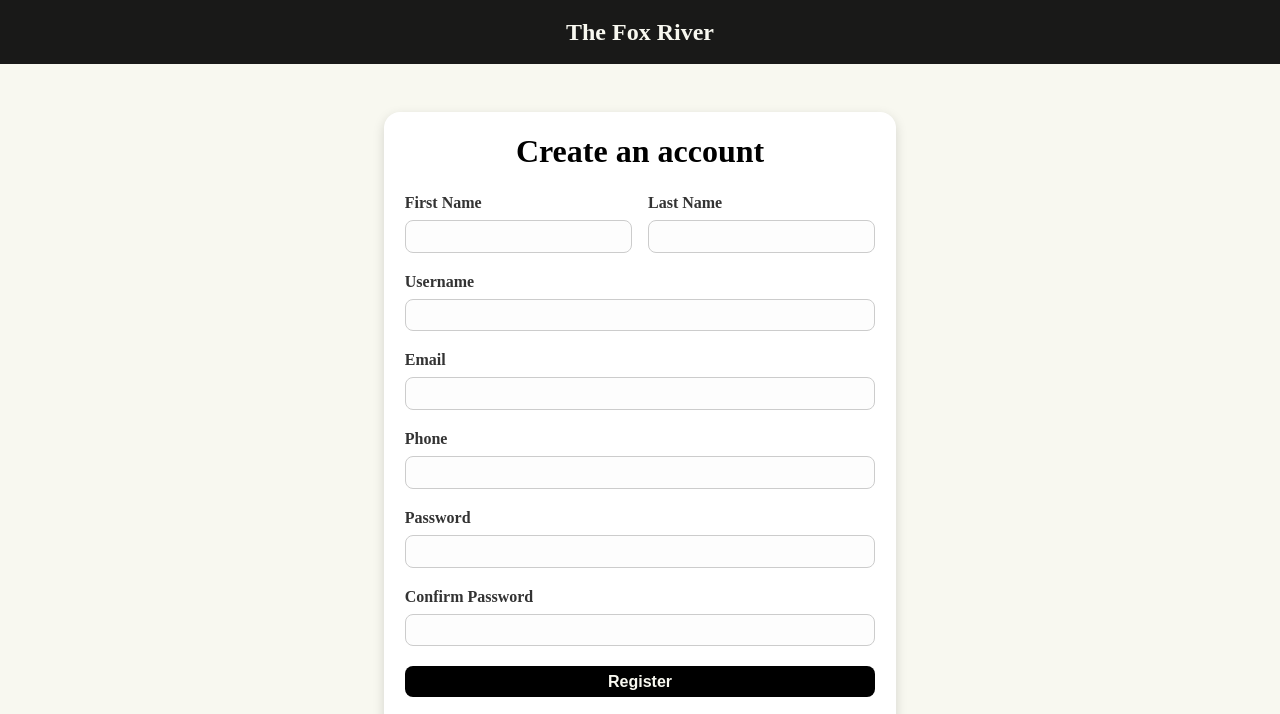
Register.vue › shows error if passwords do not match
In the password field labelled "Password": (640, 551) [405,535,875,568], type "pass123"
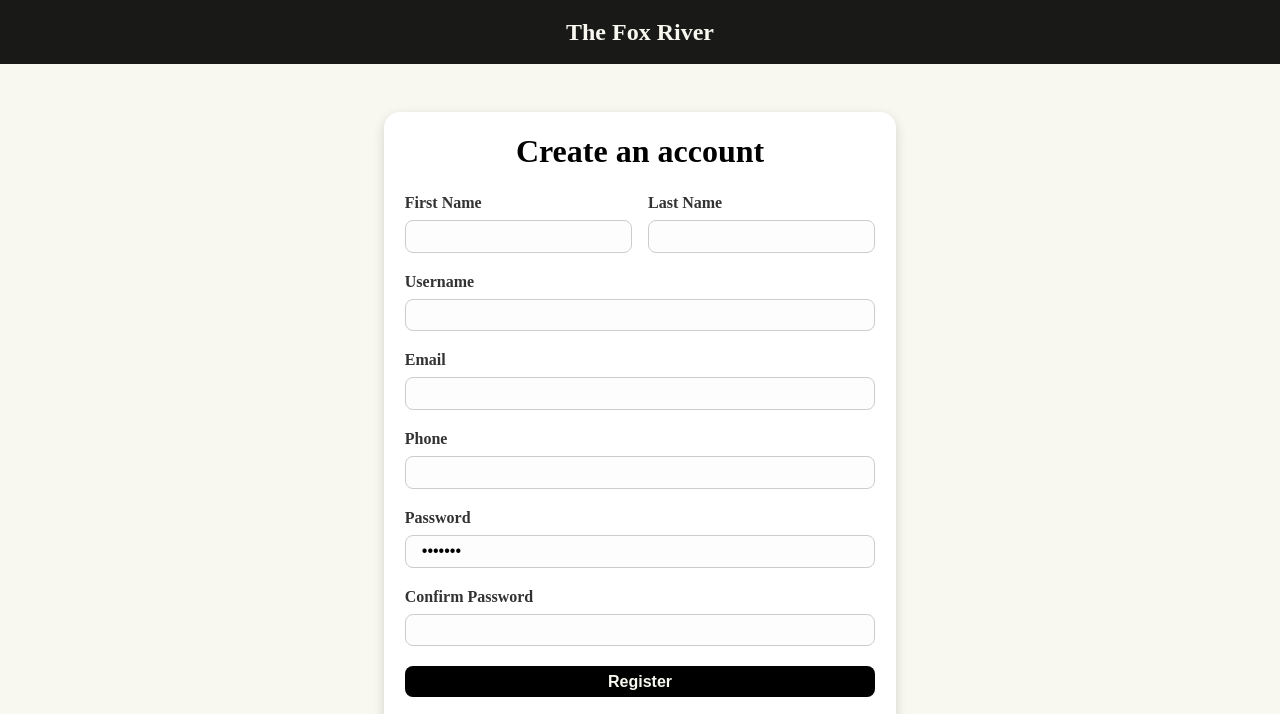
In the password field with id "confirmPassword": (640, 630) [405,614,875,646], type "different"
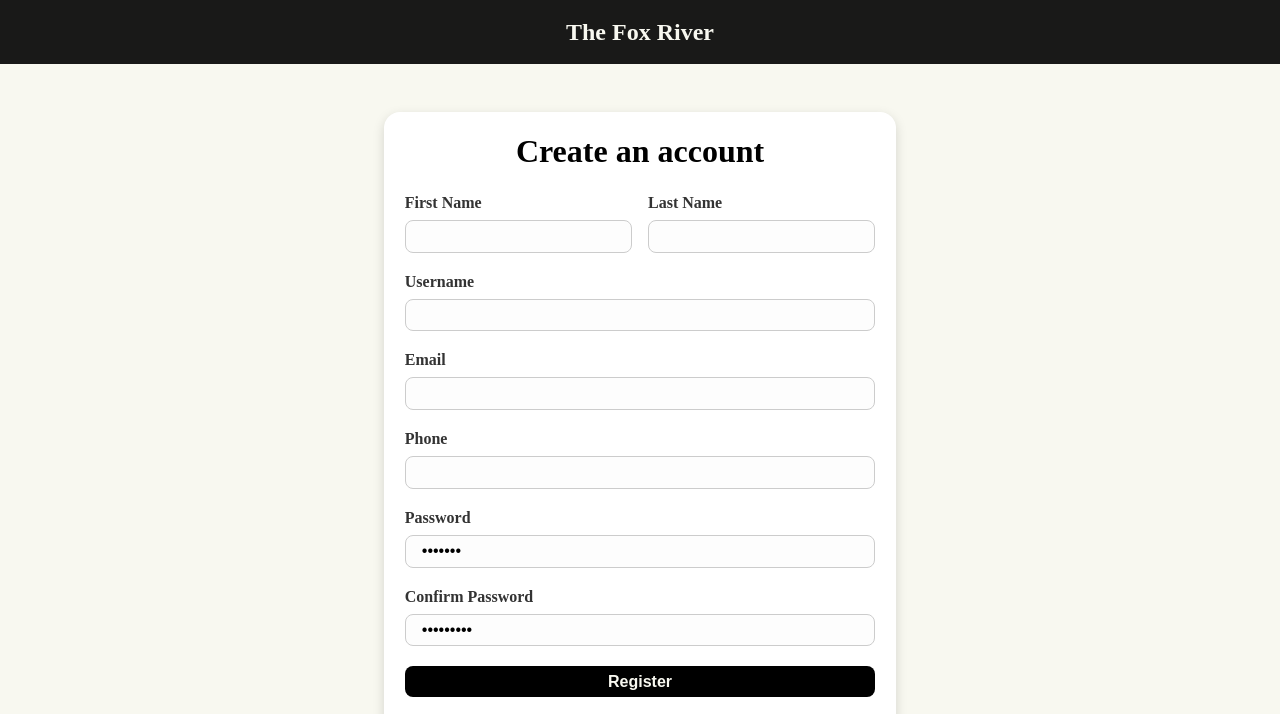
Submit the form, box [405,194,875,697]
(page scrolled)
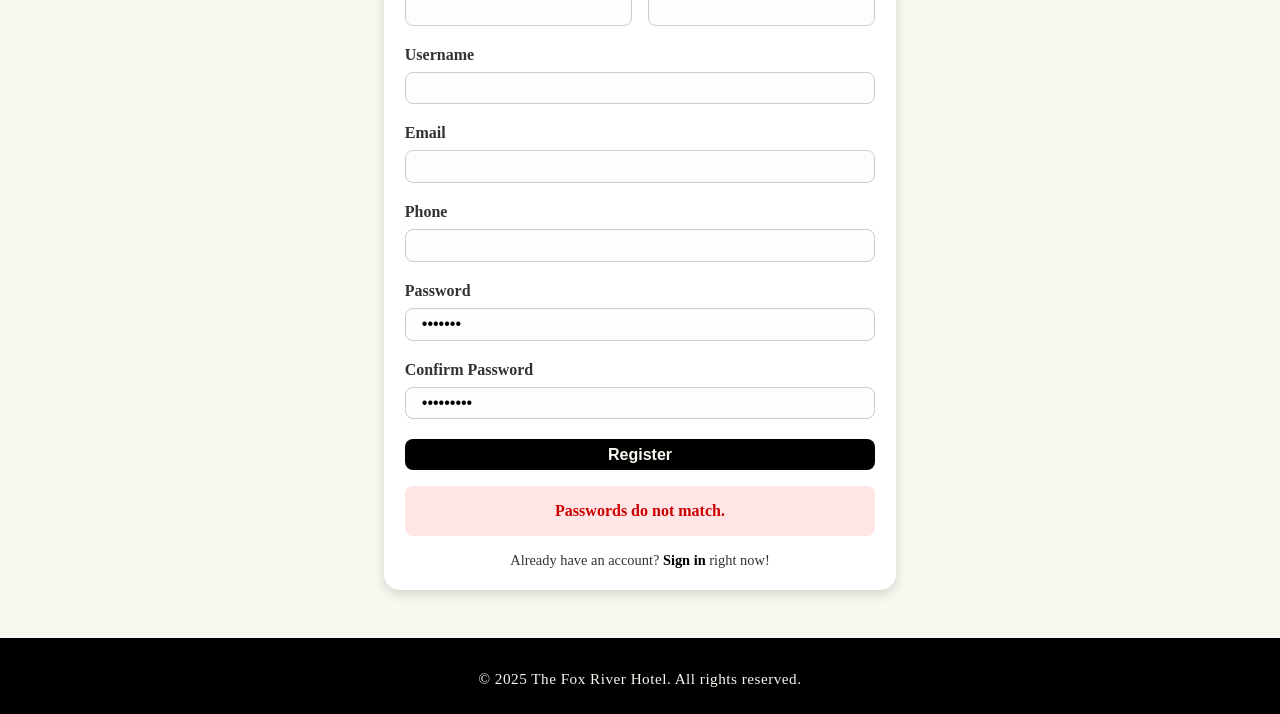
Expected: the text with class "error" reads "Passwords do not match.", [555,502,725,519]
